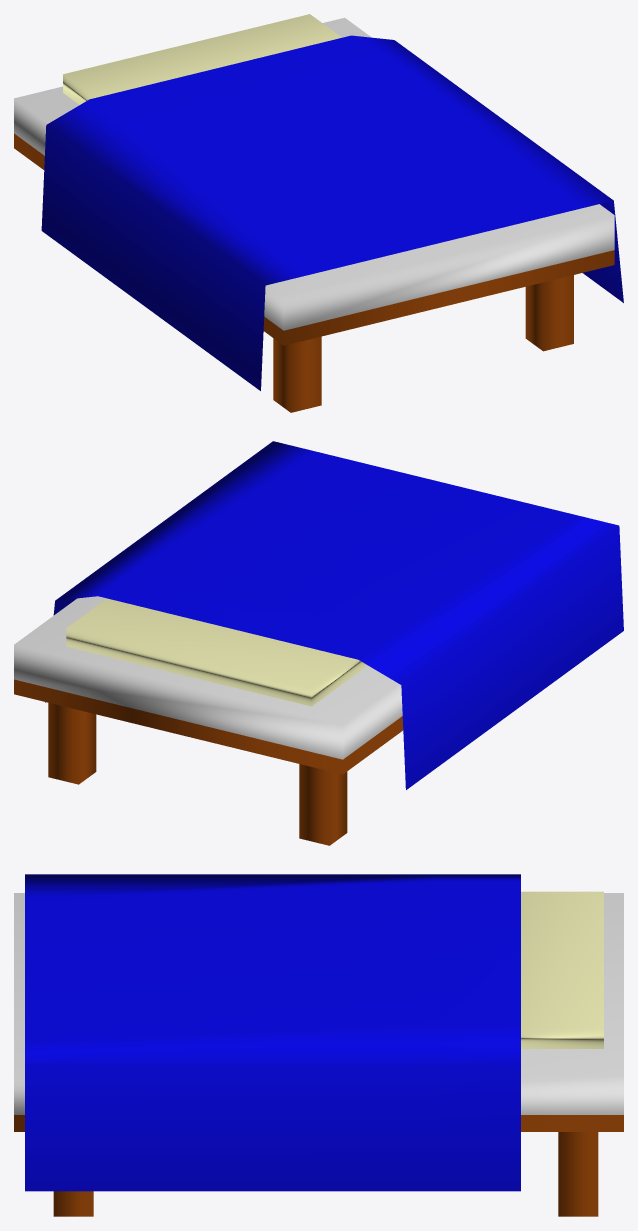
The model's file is cama1plaza.fbx.
3 renders of one model, top to bottom at view 1: azimuth 30°, elevation 25°; view 2: azimuth 150°, elevation 25°; view 3: azimuth 270°, elevation 25°, orthographic. The views are drawn at different scales.
Visible parts, largest first — view 1: manta_geo, cama_geo, almohada_geo; view 2: manta_geo, cama_geo, almohada_geo; view 3: manta_geo, cama_geo, almohada_geo.
Part boxes in pixels (x1,y1,x2,y2): manta_geo: (41,35,623,390); cama_geo: (14,17,614,412); almohada_geo: (63,14,341,104); manta_geo: (45,441,623,789); cama_geo: (14,596,403,845); almohada_geo: (66,598,366,706); manta_geo: (25,874,520,1191); cama_geo: (14,893,623,1216); almohada_geo: (521,891,603,1048).
Bounding box in the file's own units: 148 × 62.54 × 190.
